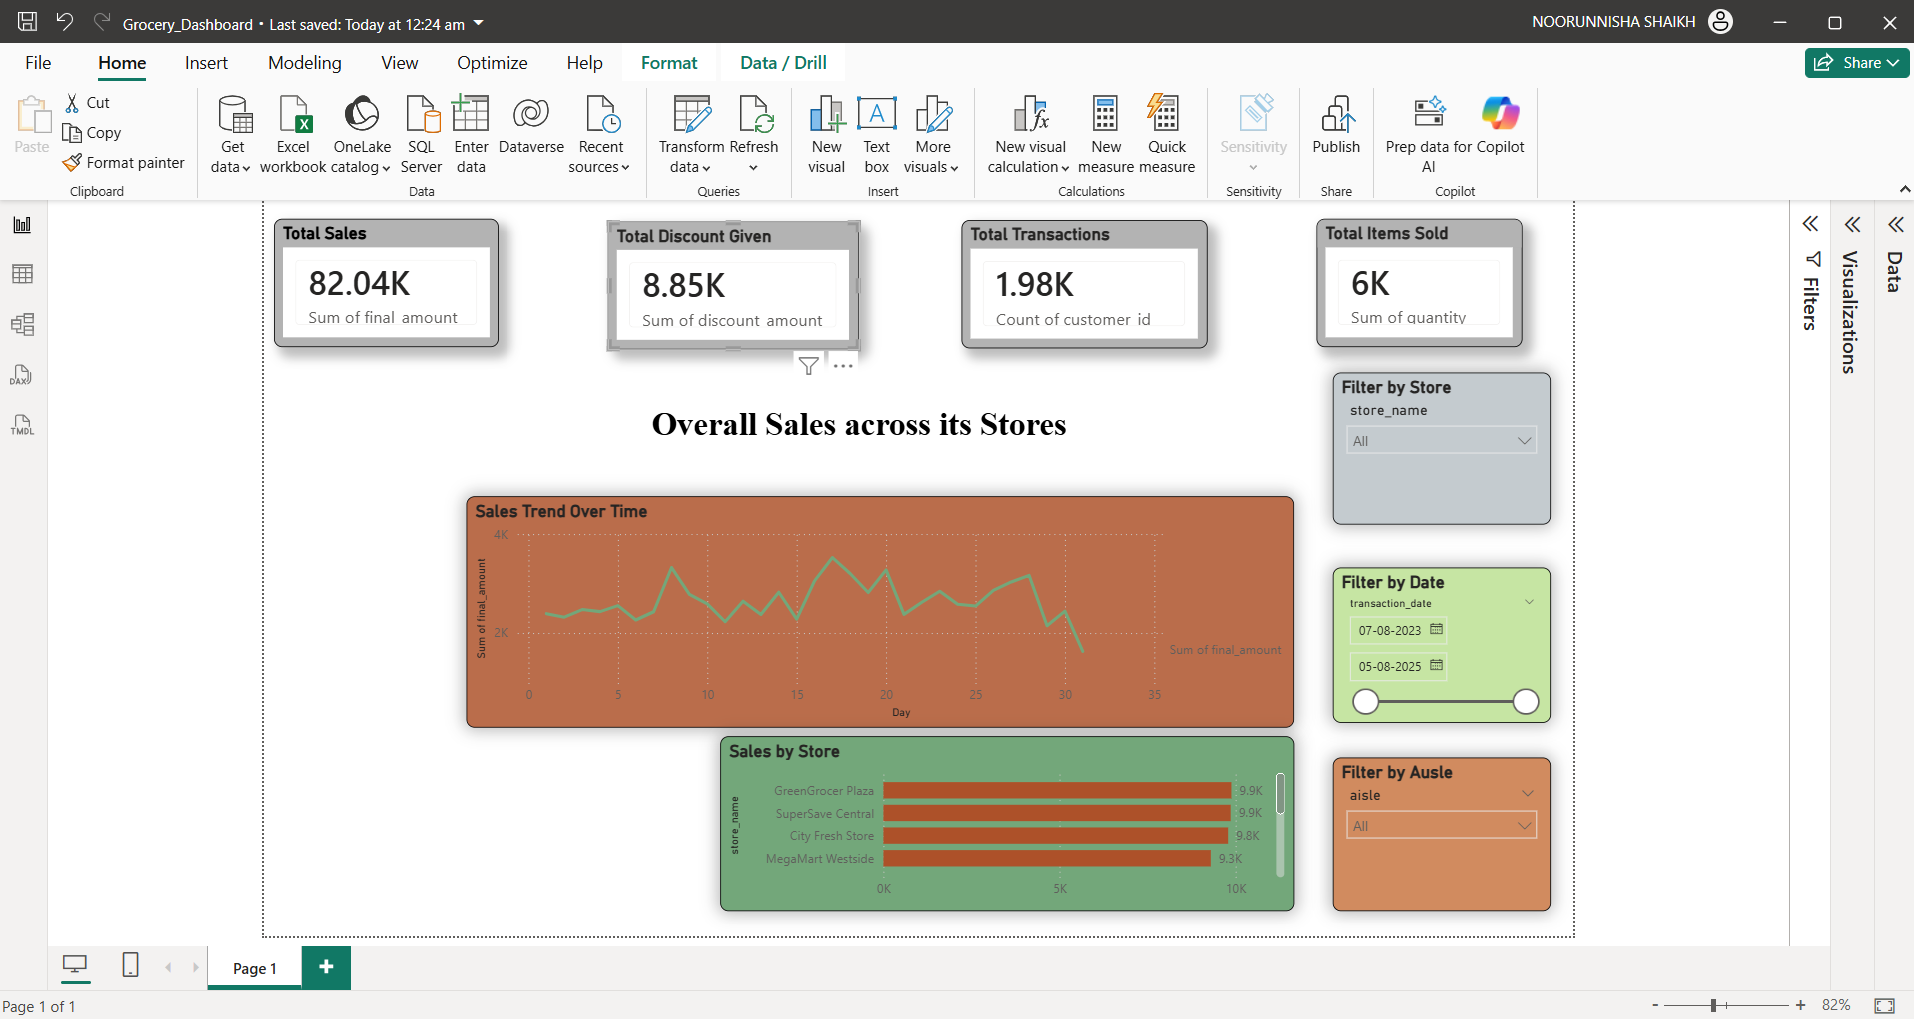

What the dashboard file says about the page in this screenshot:
{"tool":"powerbi","page":{"name":"Page 1","canvas":[1280,720],"ordinal":0},"visuals":[{"type":"cardVisual","title":"Total Sales","fields":{"Data":["Sum(grocery_chain_data.final_amount)"]},"box":[9.8,18.1,220.1,126],"z":0},{"type":"cardVisual","title":"Total Transactions","fields":{"Data":["CountNonNull(grocery_chain_data.customer_id)"]},"box":[682.3,19.3,240.9,126],"z":1000},{"type":"cardVisual","title":"Total Items Sold","fields":{"Data":["Sum(grocery_chain_data.quantity)"]},"box":[1029.6,18.1,201.8,126],"z":2000},{"type":"cardVisual","title":"Total Discount Given","fields":{"Data":["Sum(grocery_chain_data.discount_amount)"]},"box":[336.3,20.6,245.8,126],"z":3000},{"type":"lineChart","title":"Sales Trend Over Time ","fields":{"Category":["grocery_chain_data.transaction_date.Variation.Date Hierarchy.Day"],"Y":["Sum(grocery_chain_data.final_amount)"]},"box":[198.1,289.6,809.5,226.2],"z":4000},{"type":"clusteredBarChart","title":"Sales by Store","fields":{"Category":["grocery_chain_data.store_name"],"Y":["Sum(grocery_chain_data.final_amount)"]},"box":[446.3,524.6,561.3,171.2],"z":5000},{"type":"slicer","title":"Filter by Store","fields":{"Values":["grocery_chain_data.store_name"]},"box":[1045.5,168.8,214,149.2],"z":6000},{"type":"slicer","title":"Filter by Ausle","fields":{"Values":["grocery_chain_data.aisle"]},"box":[1045.5,545.4,214,150.4],"z":7000},{"type":"slicer","title":"Filter by Date","fields":{"Values":["grocery_chain_data.transaction_date"]},"box":[1045.5,359.5,214,151.6],"z":8000},{"type":"textbox","box":[178.5,195.7,807.1,62.4],"z":9000}]}

Visuals, with their boxes on the page's 1280x720 design canvas (x1, y1, x2, y2). These are canvas units, not pixel positions in the 1914x1019 screenshot, which may show the page scaled, cropped or inside an application window:
"Total Sales" cardVisual: x1=10, y1=18, x2=230, y2=144
"Total Transactions" cardVisual: x1=682, y1=19, x2=923, y2=145
"Total Items Sold" cardVisual: x1=1030, y1=18, x2=1231, y2=144
"Total Discount Given" cardVisual: x1=336, y1=21, x2=582, y2=147
"Sales Trend Over Time " lineChart: x1=198, y1=290, x2=1008, y2=516
"Sales by Store" clusteredBarChart: x1=446, y1=525, x2=1008, y2=696
"Filter by Store" slicer: x1=1046, y1=169, x2=1260, y2=318
"Filter by Ausle" slicer: x1=1046, y1=545, x2=1260, y2=696
"Filter by Date" slicer: x1=1046, y1=360, x2=1260, y2=511
textbox: x1=178, y1=196, x2=986, y2=258
